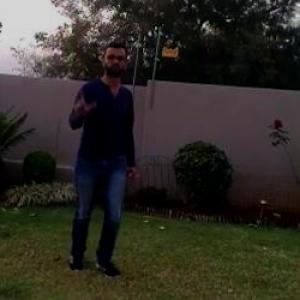land_hand: (68, 80, 101, 122)
